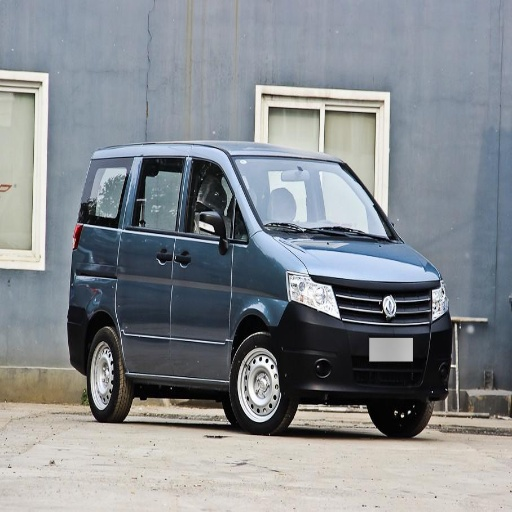front_bumper: (277, 282, 454, 401)
front_right_door: (167, 154, 242, 379)
front_right_light: (287, 273, 337, 315)
